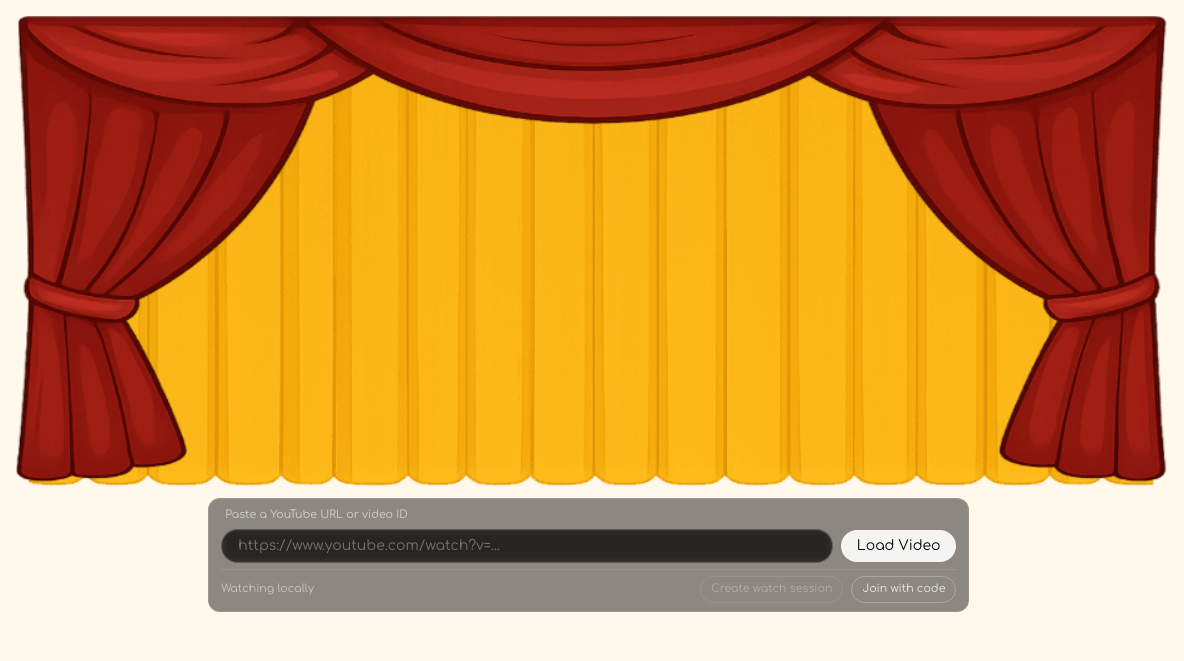
Scenario: joining › refuses an impossible code without touching the relay
Click the button "Join with code": (904, 589) [851, 576, 956, 602]
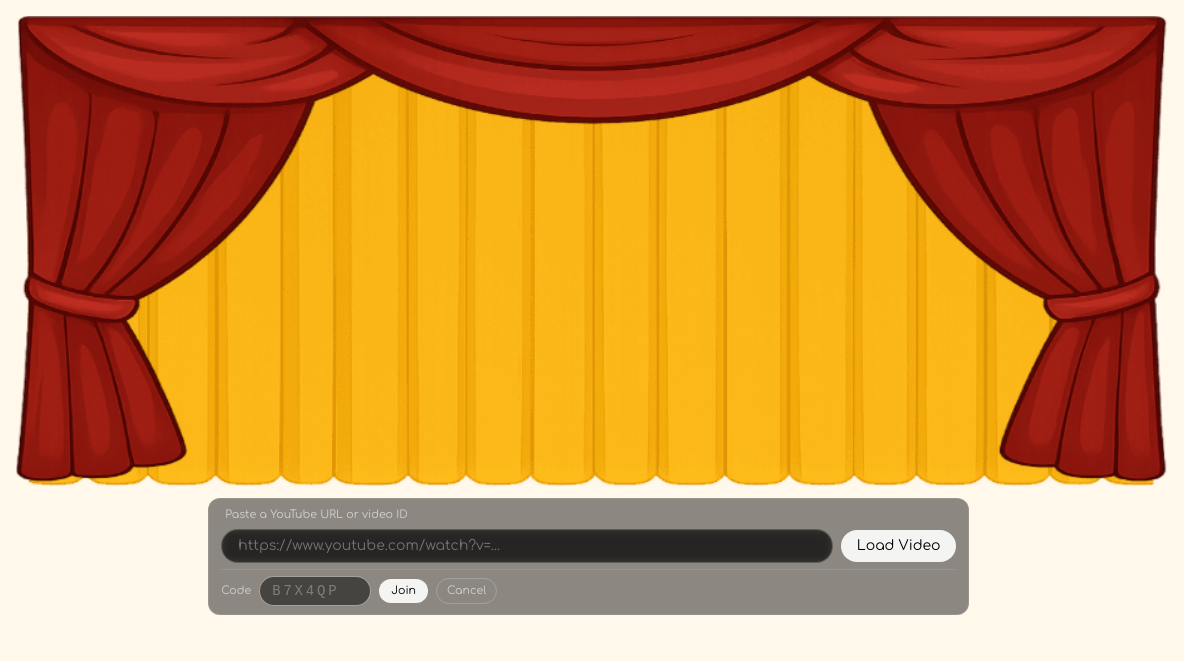
In the field named "watch session code": (315, 591) [259, 576, 371, 606], type "ABC"
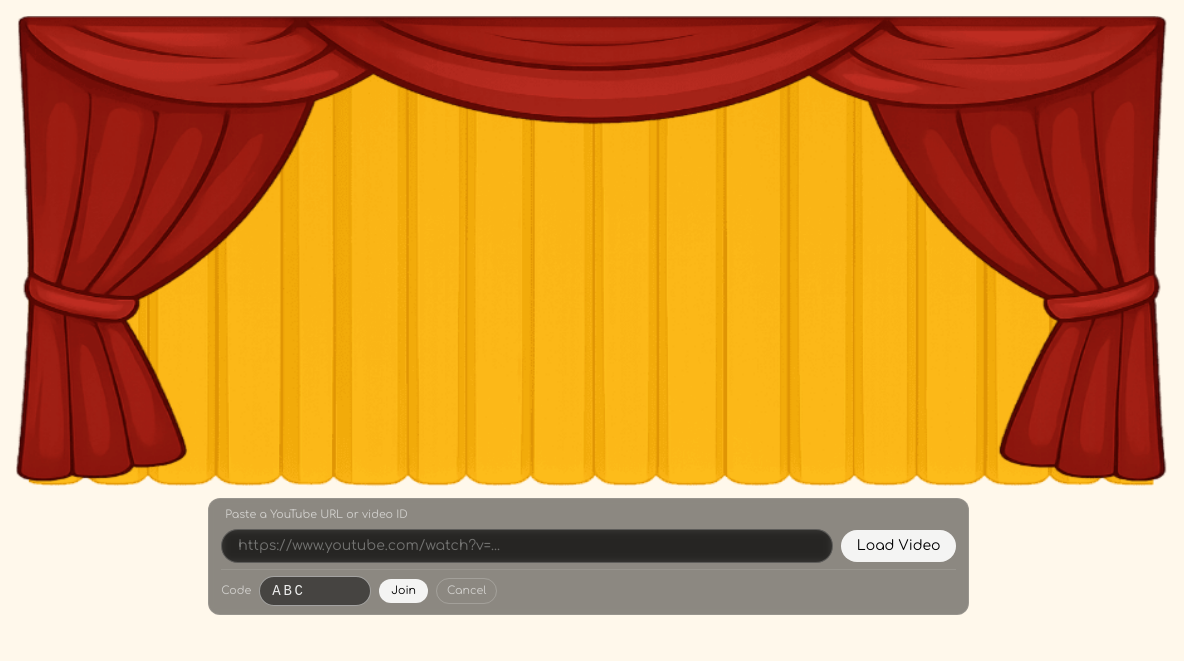
Click the button "Join": (404, 591) [379, 579, 428, 603]
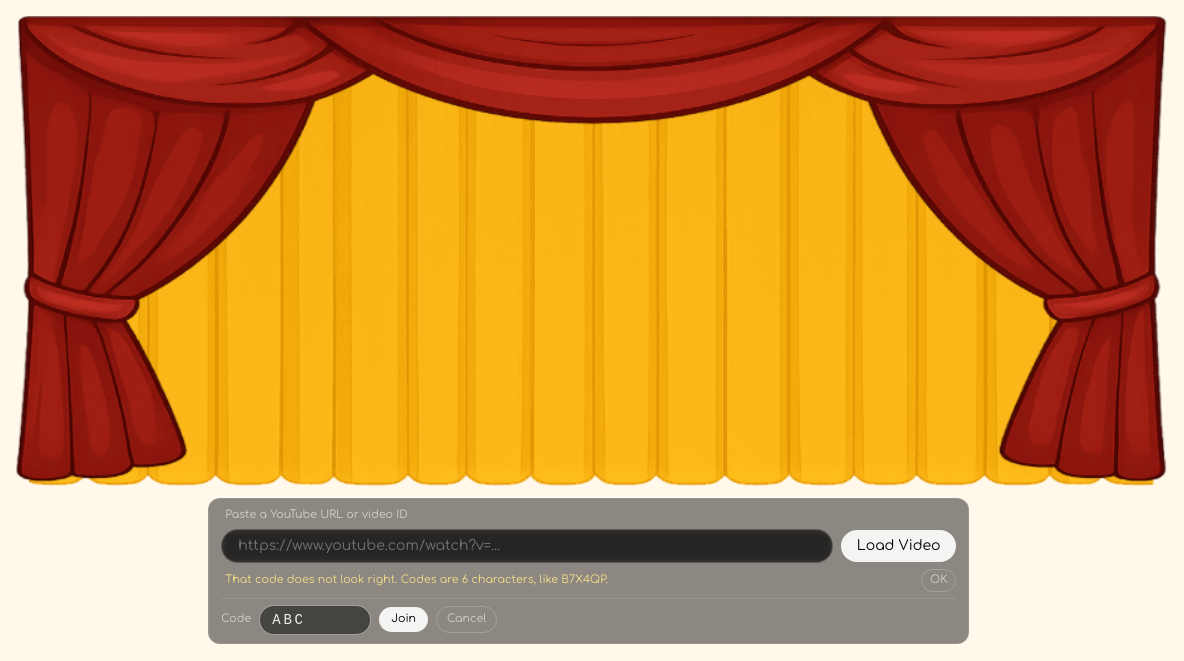
Check: the message shows "6 characters", box [225, 573, 608, 586]
